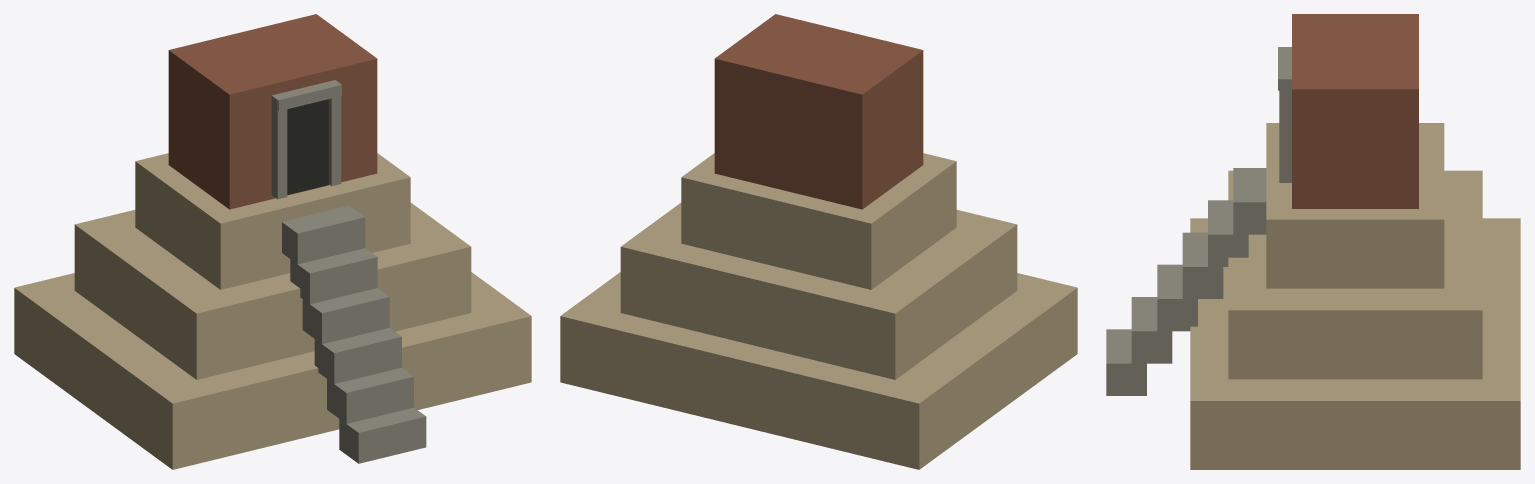
File: custom-home-americas.glb
The picture shows the model from 3 angles, left to right: view 1: azimuth 30°, elevation 25°; view 2: azimuth 150°, elevation 25°; view 3: azimuth 270°, elevation 25°; orthographic projection. The views are drawn at different scales.
Visible parts, largest first — view 1: custom-home-americas; view 2: custom-home-americas; view 3: custom-home-americas.
Boxes of the visible parts, x1,y1,x2,y2 form: custom-home-americas: (14,14,531,469); custom-home-americas: (560,14,1077,469); custom-home-americas: (1106,14,1520,469).
Size of the model in its own units: 1 by 0.8353 by 0.9588.
